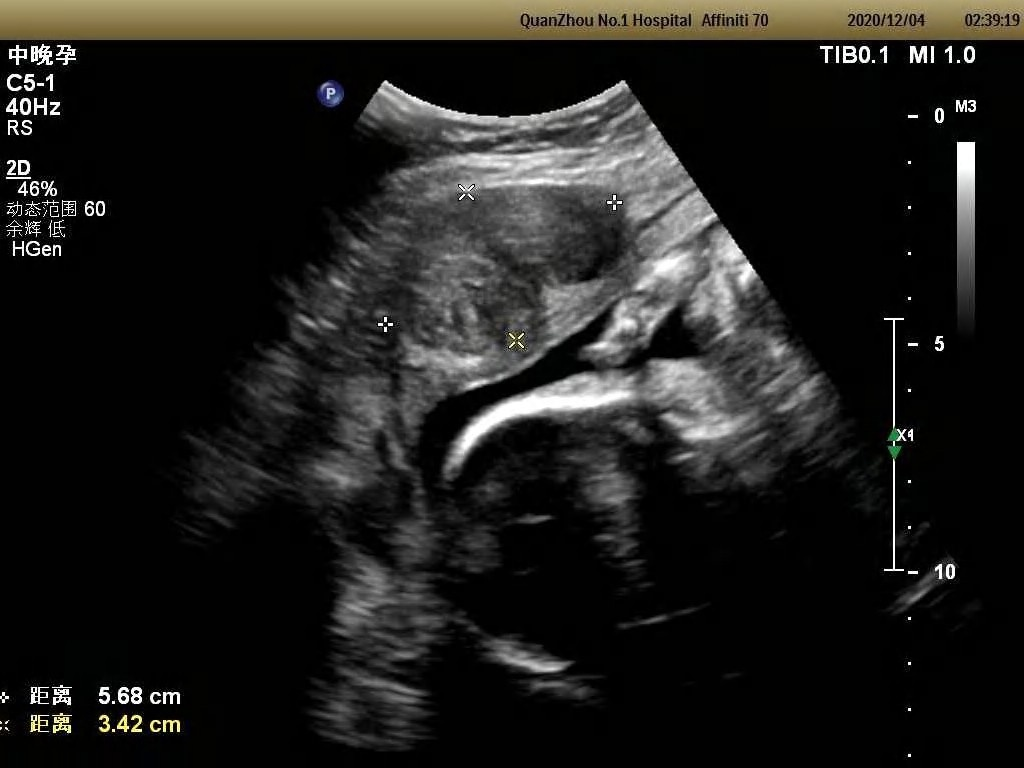肌瘤: (396, 186, 629, 351)
